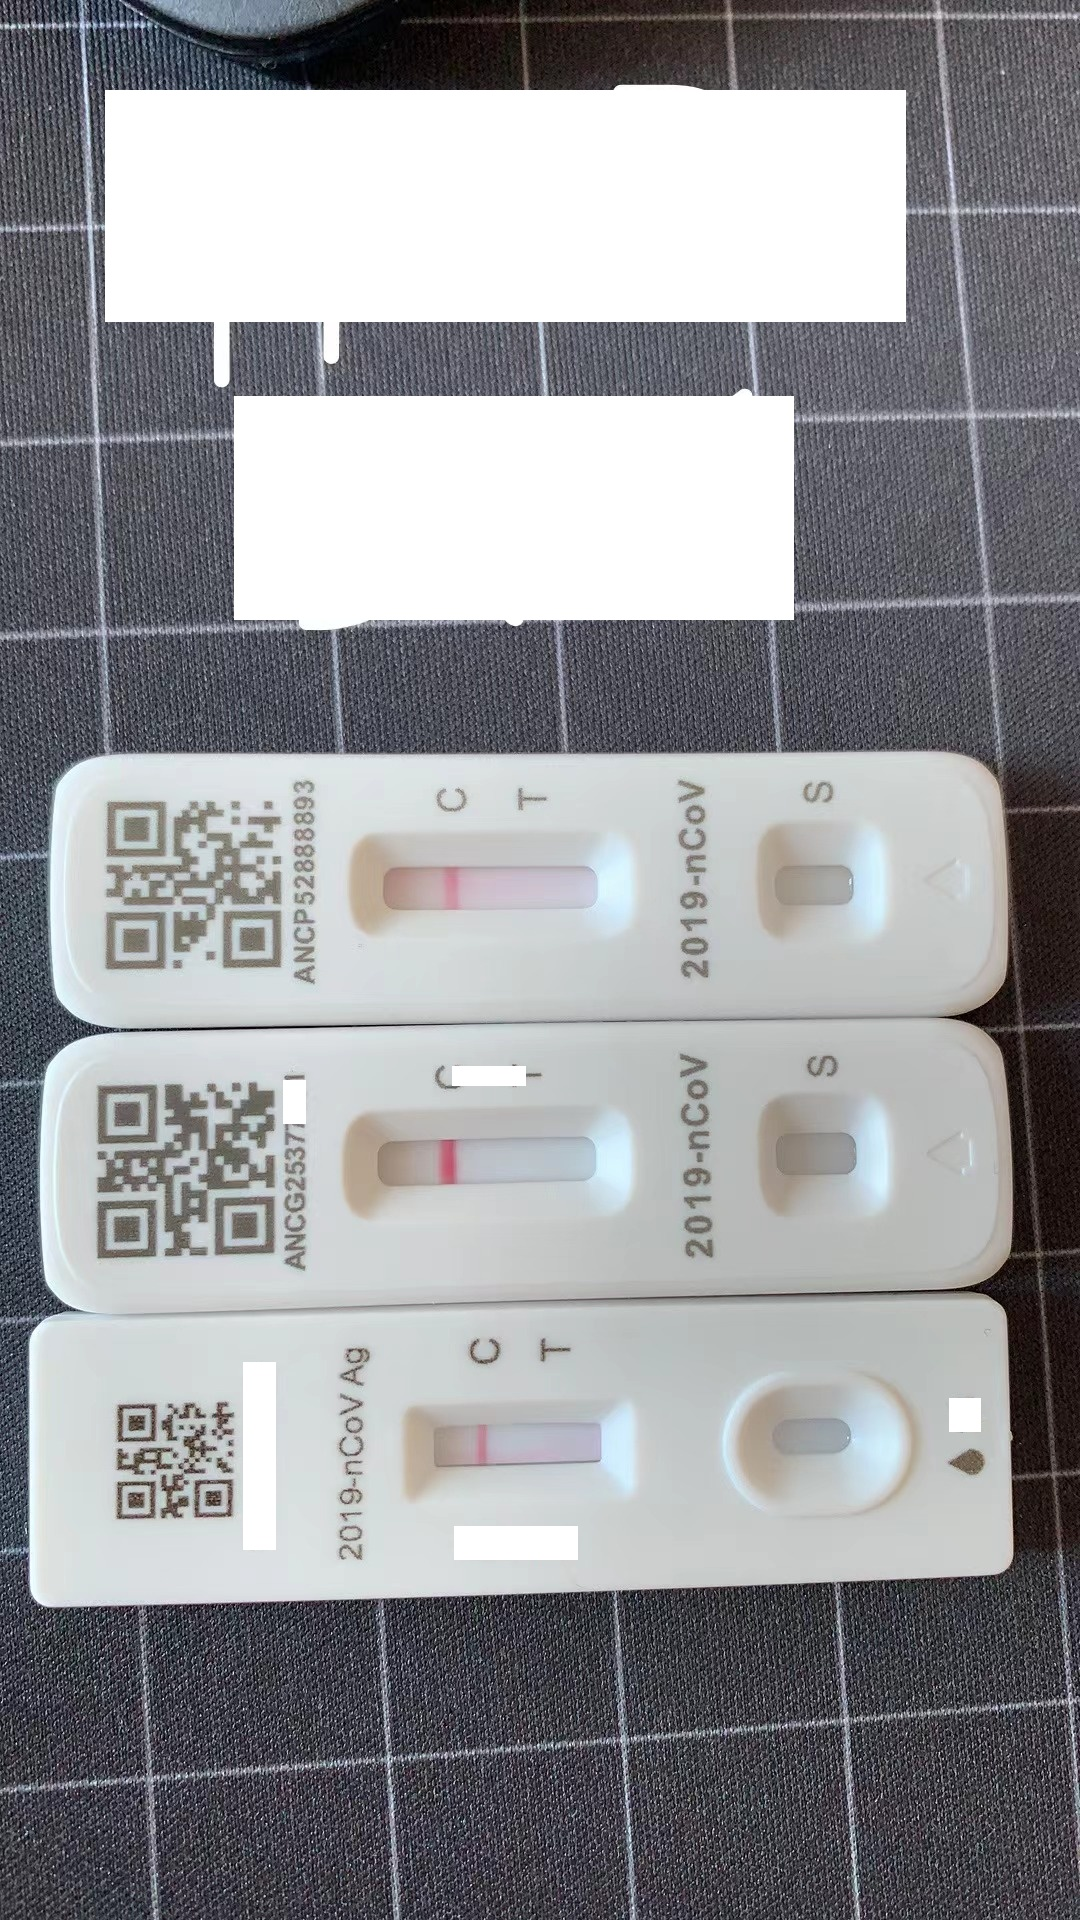negative: (342, 1106, 636, 1218), (345, 833, 632, 943), (372, 1400, 644, 1490)
